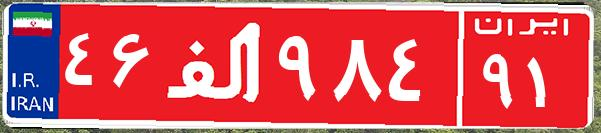1: (525, 38, 570, 115)
4: (385, 28, 445, 110), (57, 26, 110, 107)
6: (110, 28, 158, 105)
8: (330, 28, 385, 110)
9: (273, 28, 330, 110), (475, 38, 525, 113)
الف: (158, 15, 273, 115)
